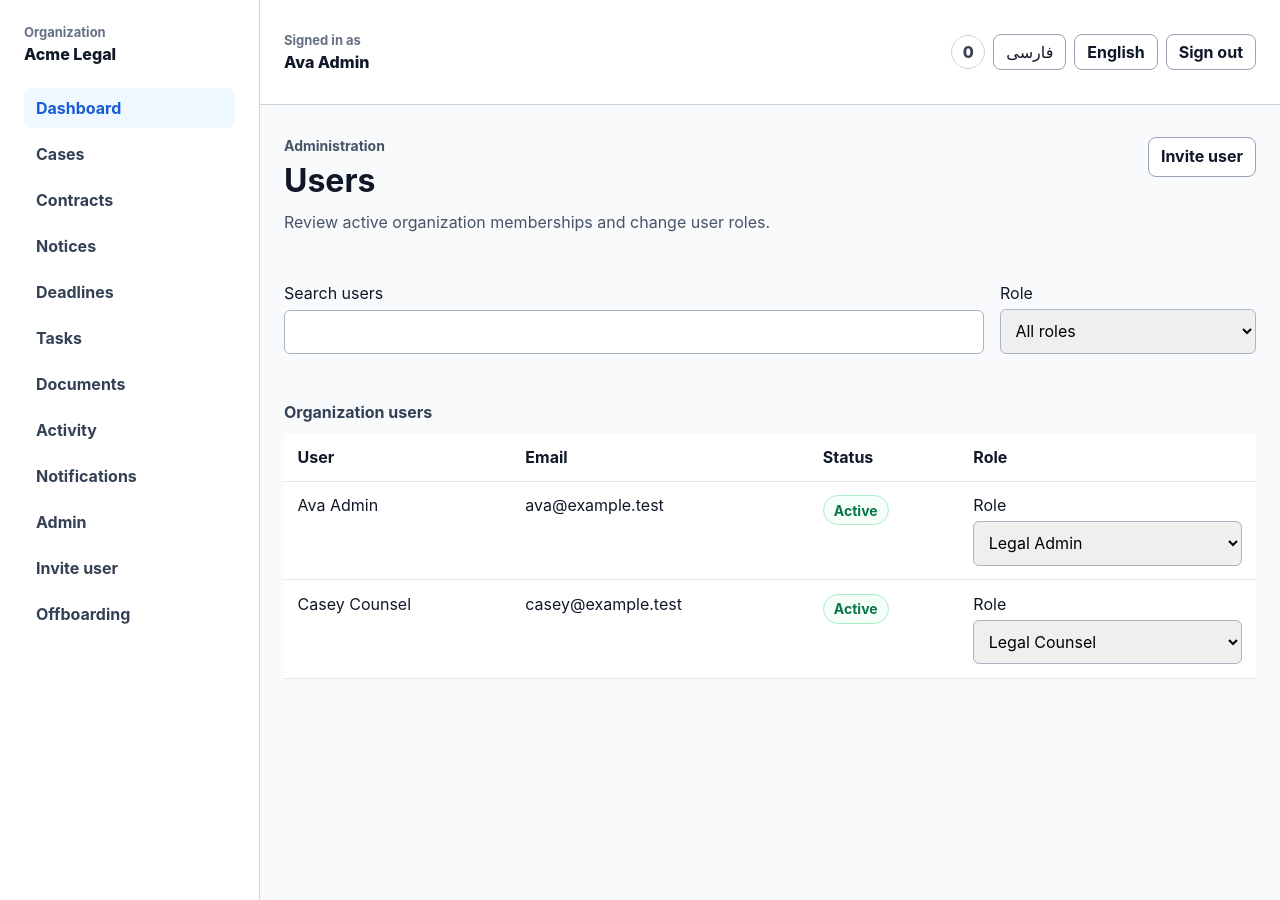
Test case: admin views and filters organization users
The width and height of the screenshot is (1280, 900).
Expected: the dropdown named "Ava Admin Role" is shown, [973,521,1242,566]
Expected: the text "Casey Counsel" is shown, [284,580,512,678]
Type "casey" into the search field labelled "Search users".
click(634, 332); type("casey")  # box [284,310,984,354]
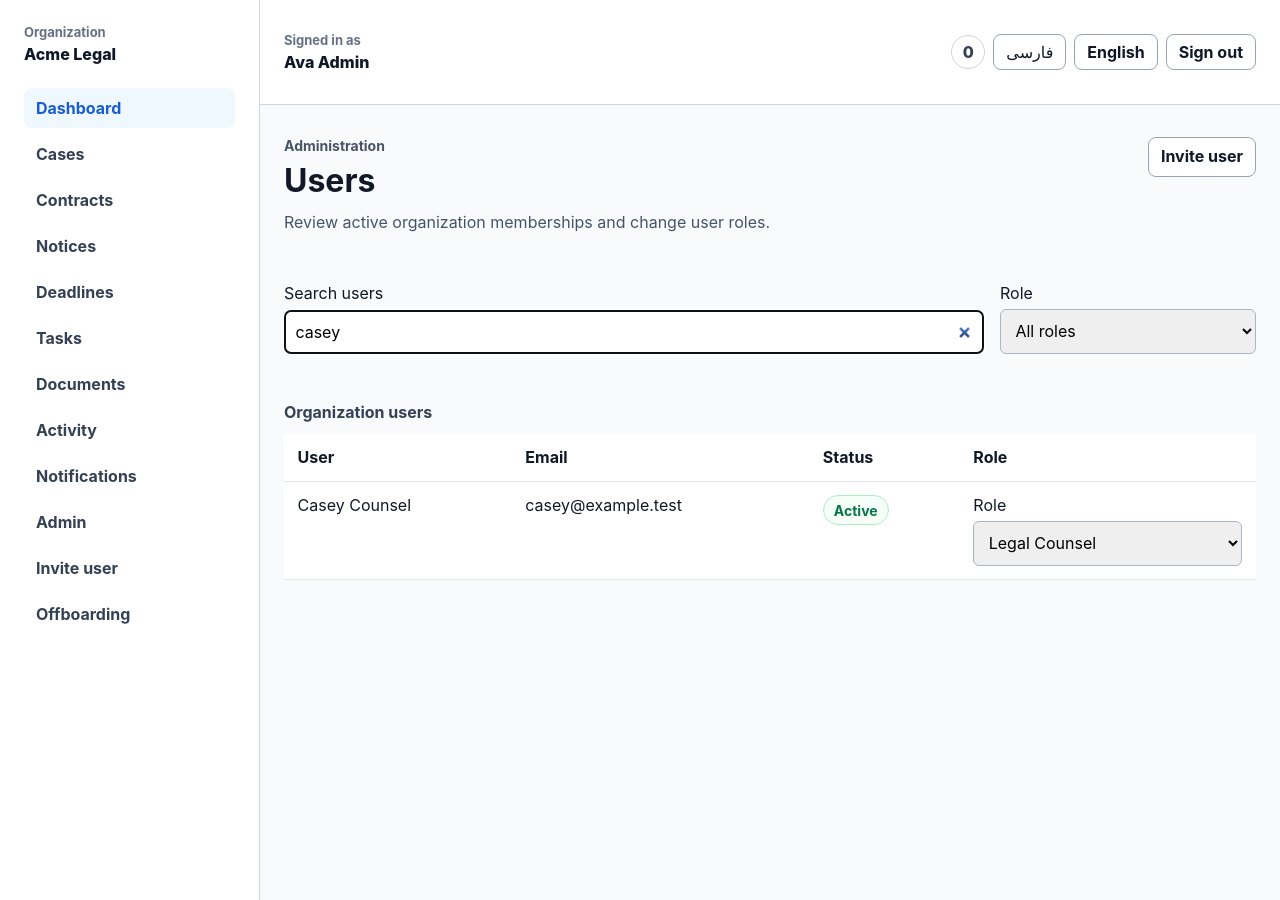
Expected: the text "Casey Counsel" is shown, [284,481,512,580]
Select "Legal Admin" in the 1st dropdown labelled "Role" at (1128, 331), box [1000,309,1256,354]
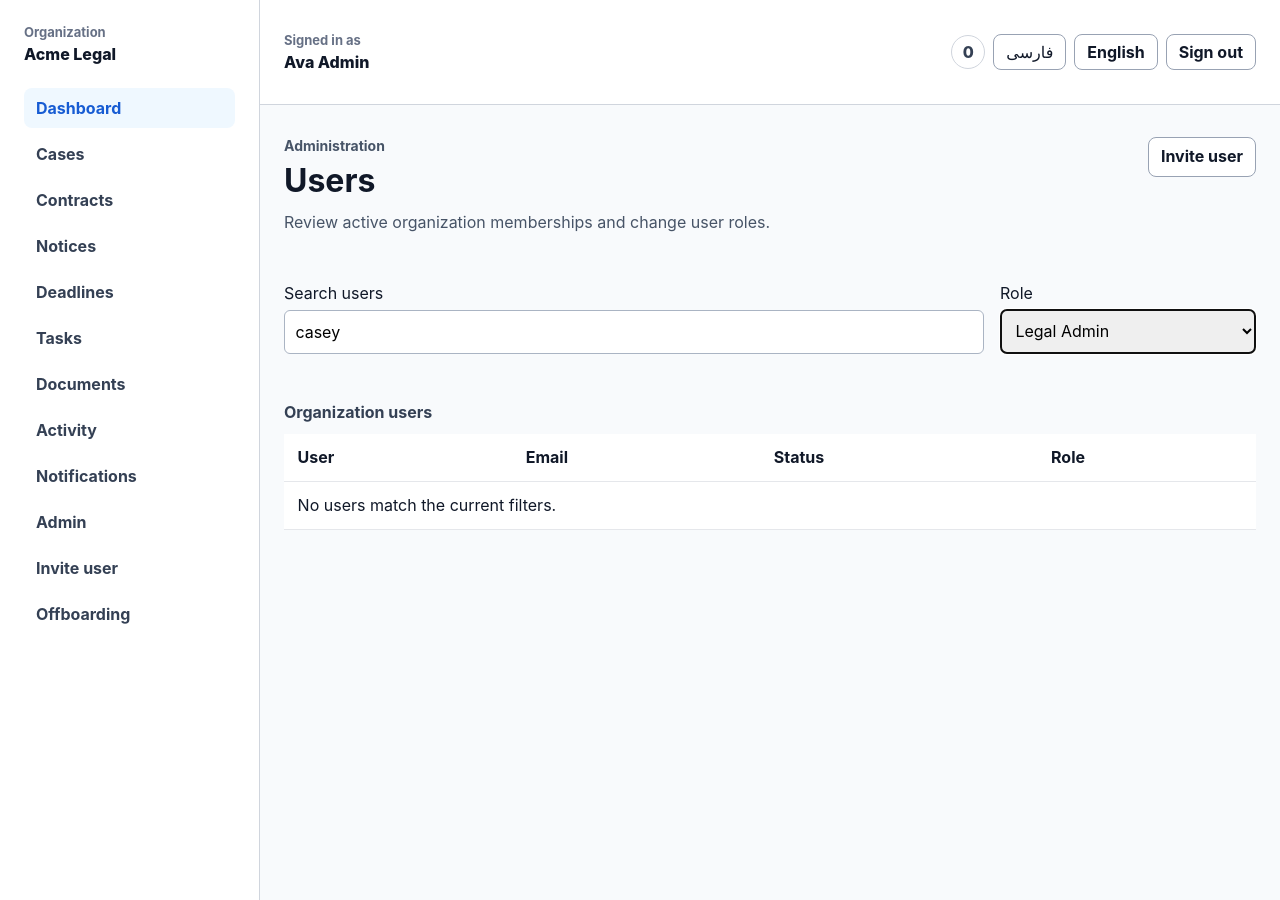
Expected: the text "No users match the current filters." is shown, [284,481,1256,530]
